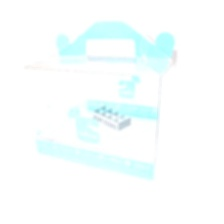plastic_box: (18, 13, 186, 188)
